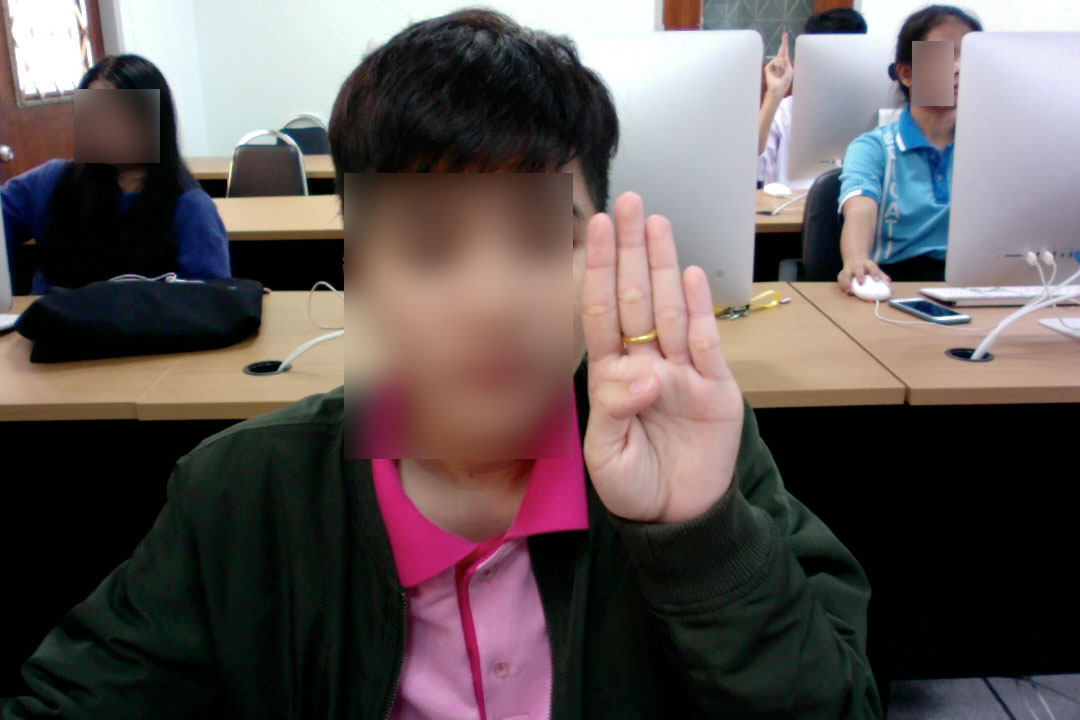bor: (561, 184, 769, 539)
